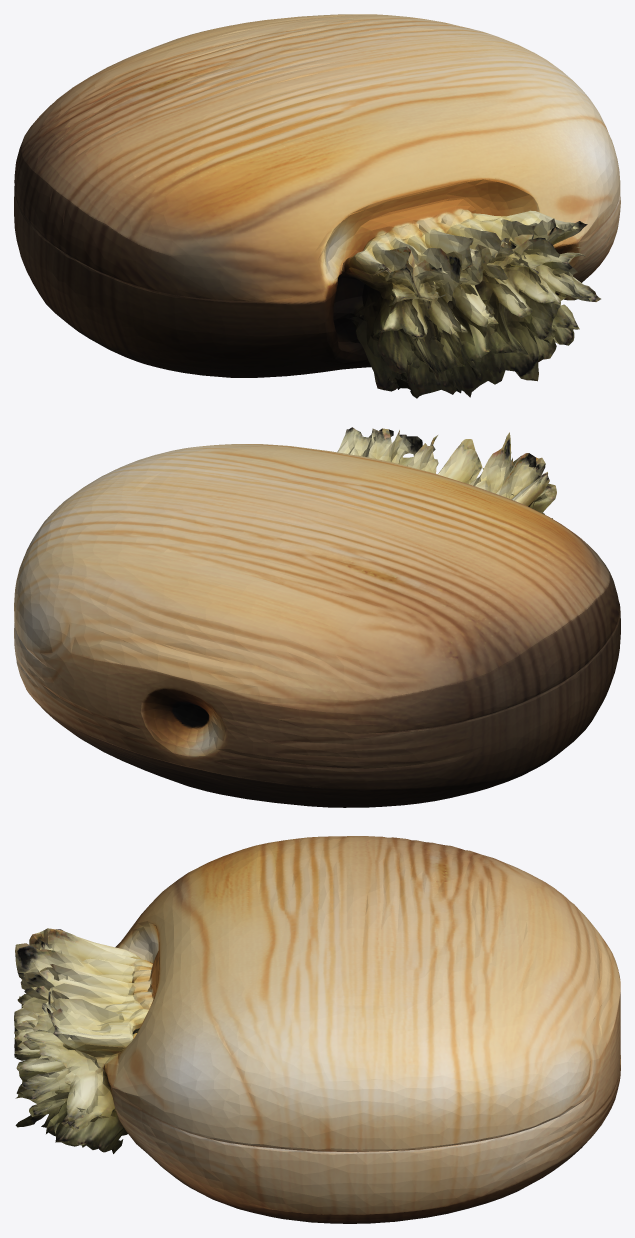
Rendered from wooden-bath-brush-new-style.jpeg.glb.
3 views of the same model, one above another, from view 1: azimuth 30°, elevation 25°; view 2: azimuth 150°, elevation 25°; view 3: azimuth 270°, elevation 25° (orthographic).
Parts seen in each view (by area): view 1: world; view 2: world; view 3: world.
Part boxes in pixels (x1,y1,x2,y2): world: (14, 14, 620, 398); world: (14, 427, 620, 807); world: (14, 836, 620, 1223).
Bounding box in the file's own units: 0.9922 × 0.4309 × 1.
Materials: 1 (1 with a texture image).
